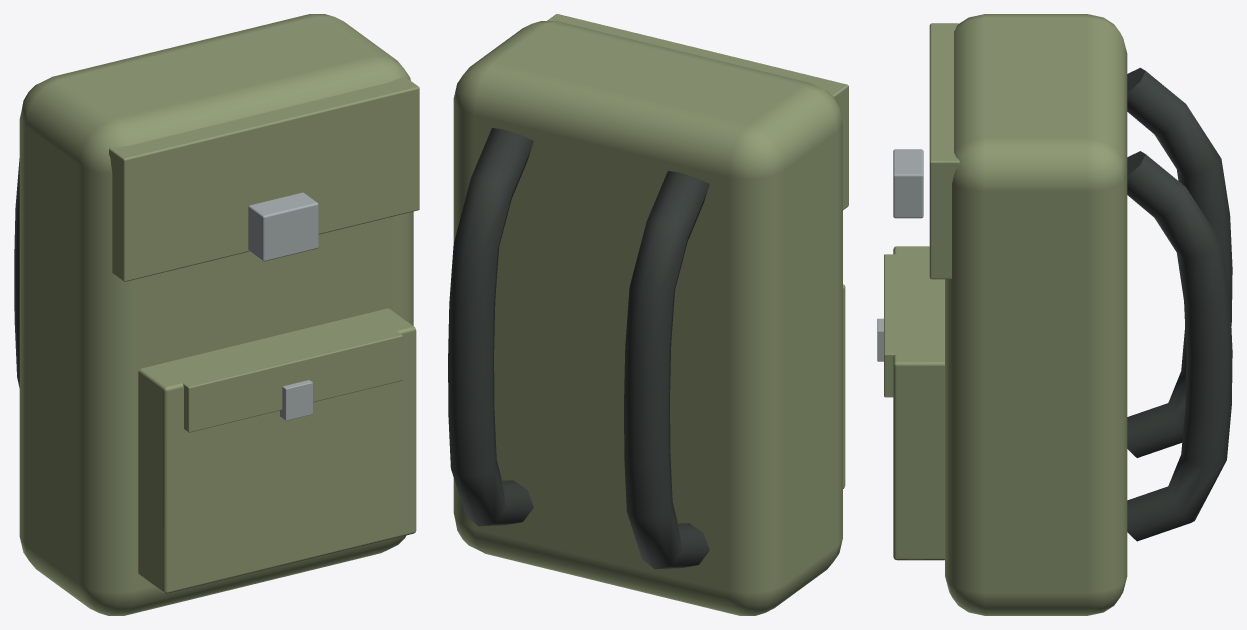
Rendered from backpacks-and-expedition-storage-frameless-daypack-e3912d27__21073.glb.
3 renders of one model, left to right at view 1: azimuth 30°, elevation 25°; view 2: azimuth 150°, elevation 25°; view 3: azimuth 270°, elevation 25°, orthographic. The views are drawn at different scales.
Visible parts, largest first — view 1: frameless-daypack, flap/canvas; view 2: frameless-daypack, flap/canvas; view 3: frameless-daypack, flap/canvas.
Part boxes in pixels (box(x1,y1,x2,y2)): frameless-daypack: box(14, 14, 416, 615); flap/canvas: box(109, 76, 419, 281); frameless-daypack: box(448, 21, 845, 615); flap/canvas: box(547, 14, 848, 209); frameless-daypack: box(877, 14, 1232, 615); flap/canvas: box(929, 23, 959, 279).
Size of the model in its own units: 0.3 by 0.43 by 0.2919.
